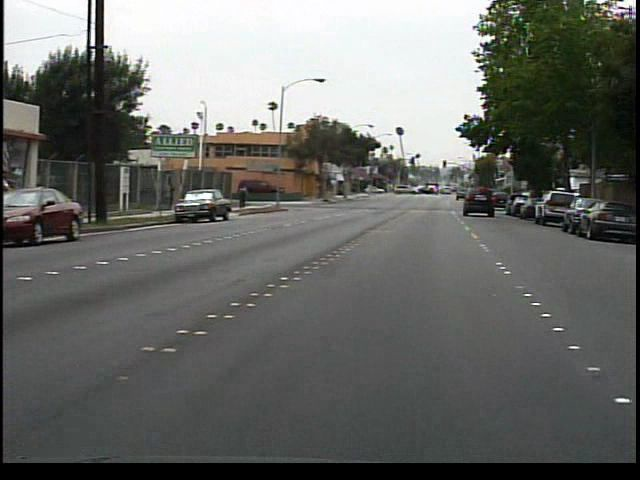person: (241, 181, 258, 213)
